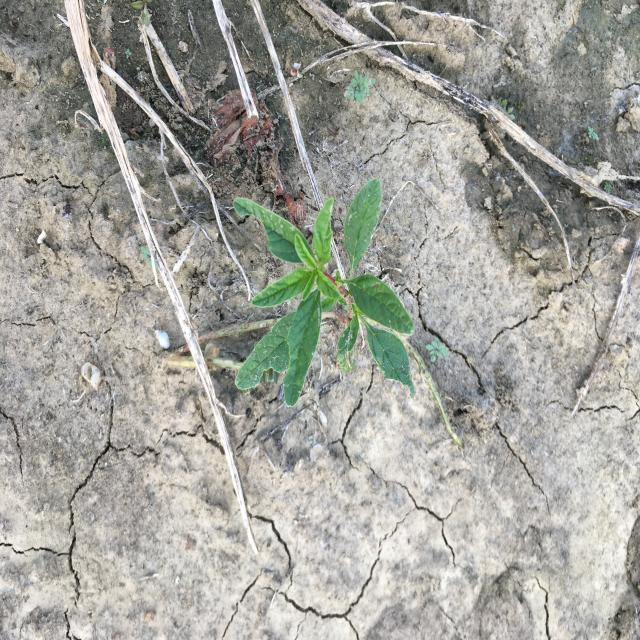Ragweed: (342, 66, 378, 110)
Waterhemp: (231, 177, 417, 409)
